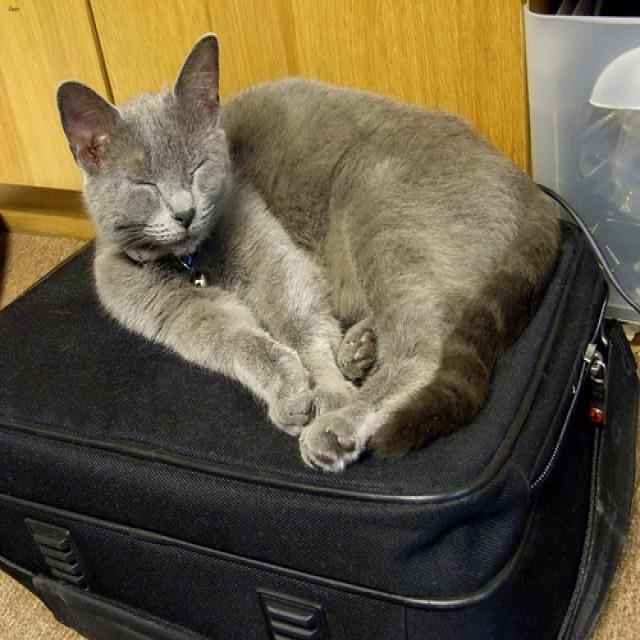Russian_Blue: (55, 32, 230, 253)
